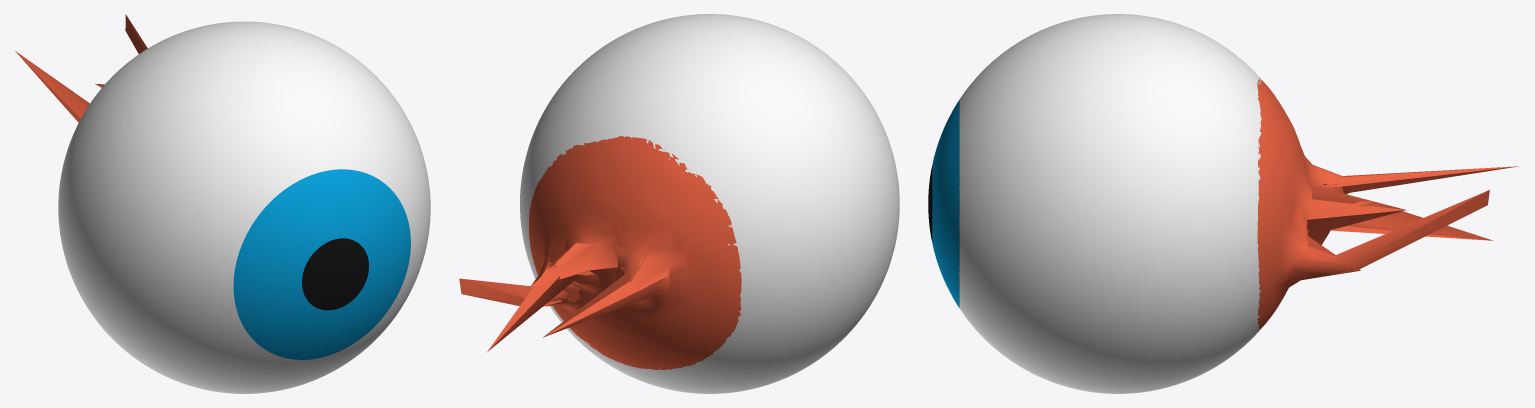
Rendered from Eyeball.fbx.
3 renders of one model, left to right at view 1: azimuth 30°, elevation 25°; view 2: azimuth 150°, elevation 25°; view 3: azimuth 270°, elevation 25°, orthographic. The views are drawn at different scales.
Visible parts, largest first — view 1: Eyeball; view 2: Eyeball; view 3: Eyeball.
Part boxes in pixels (bbox=[...]): Eyeball: bbox=[15, 14, 430, 393]; Eyeball: bbox=[459, 14, 899, 393]; Eyeball: bbox=[928, 14, 1518, 393].
Size of the model in its own units: 240 by 240 by 374.
